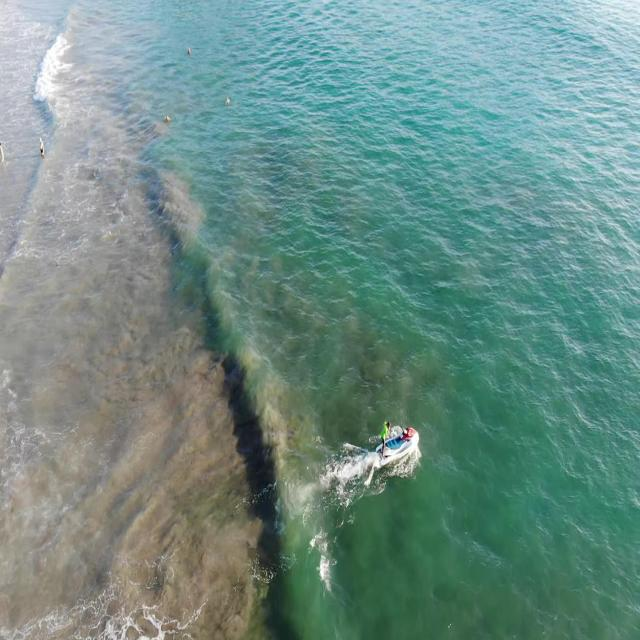boat: (369, 416, 421, 476)
